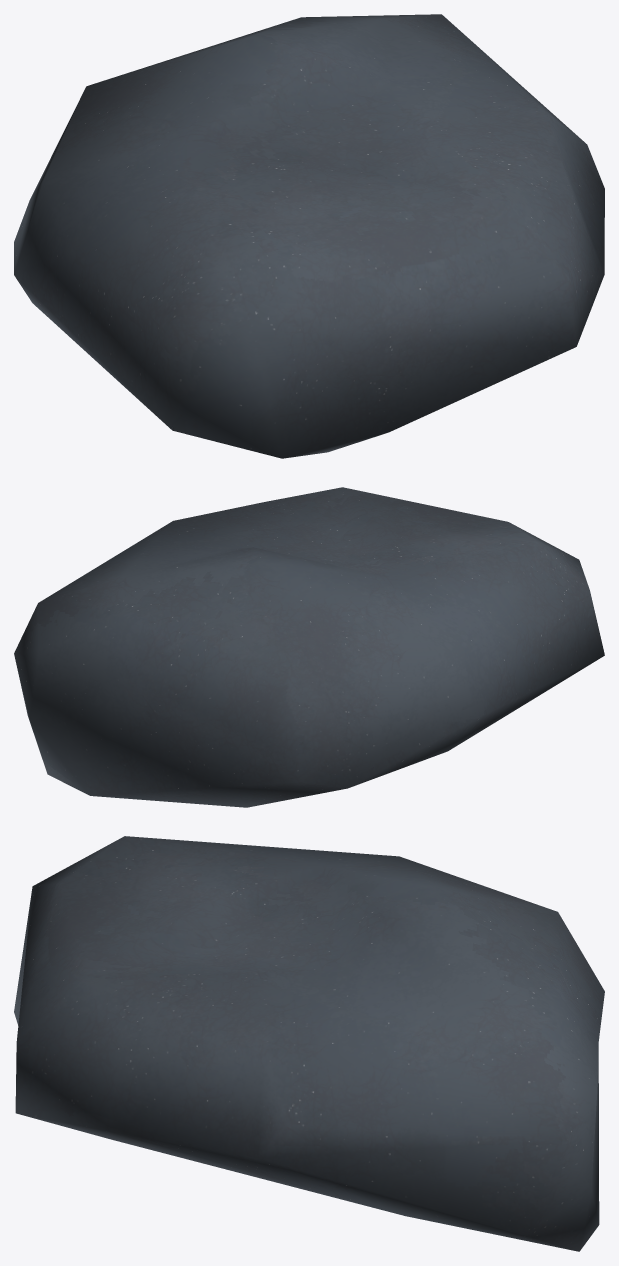
File: Rock.fbx
3 renders of one model, top to bottom at view 1: azimuth 30°, elevation 25°; view 2: azimuth 150°, elevation 25°; view 3: azimuth 270°, elevation 25°, orthographic. The views are drawn at different scales.
Parts seen in each view (by area): view 1: Rock_Low; view 2: Rock_Low; view 3: Rock_Low.
Boxes of the visible parts, left/top/right/bottom form: Rock_Low: left=14, top=14, right=604, bottom=458; Rock_Low: left=14, top=487, right=604, bottom=807; Rock_Low: left=14, top=836, right=604, bottom=1251.
Size of the model in its own units: 2.03 by 1.08 by 2.04.
